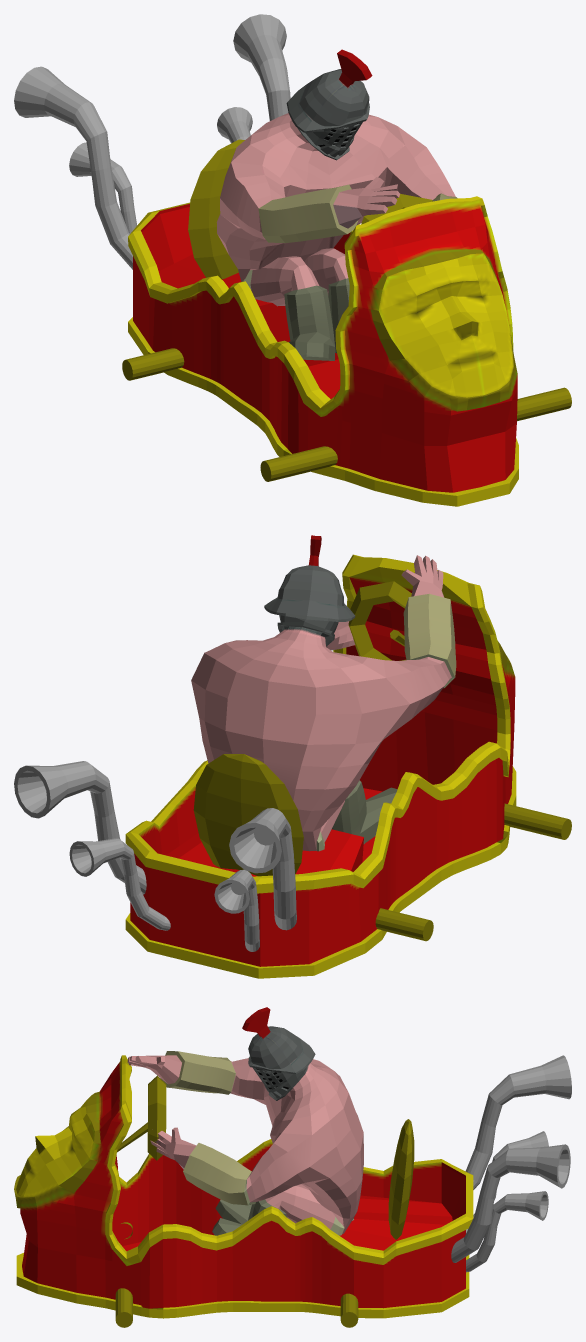
Rendered from gladiVacile_000510.obj.
3 views of the same model, one above another, from view 1: azimuth 30°, elevation 25°; view 2: azimuth 150°, elevation 25°; view 3: azimuth 270°, elevation 25° (orthographic). The views are drawn at different scales.
Parts seen in each view (by area): view 1: GladiChasis_GladiChasisH, Gadiador_Gladiador_H.001, GladiTubos_GladiTubosH, GladiVolante_GladiVolanteH; view 2: GladiChasis_GladiChasisH, Gadiador_Gladiador_H.001, GladiTubos_GladiTubosH, GladiVolante_GladiVolanteH; view 3: GladiChasis_GladiChasisH, Gadiador_Gladiador_H.001, GladiTubos_GladiTubosH, GladiVolante_GladiVolanteH.
Boxes of the visible parts, bbox=[...] form: GladiChasis_GladiChasisH: bbox=[128, 196, 518, 506]; Gadiador_Gladiador_H.001: bbox=[216, 49, 457, 360]; GladiTubos_GladiTubosH: bbox=[14, 14, 290, 269]; GladiVolante_GladiVolanteH: bbox=[122, 139, 571, 481]; GladiChasis_GladiChasisH: bbox=[125, 554, 516, 978]; Gadiador_Gladiador_H.001: bbox=[191, 535, 456, 851]; GladiTubos_GladiTubosH: bbox=[14, 761, 296, 951]; GladiVolante_GladiVolanteH: bbox=[193, 581, 571, 941]; GladiChasis_GladiChasisH: bbox=[14, 1055, 473, 1318]; Gadiador_Gladiador_H.001: bbox=[127, 1007, 363, 1235]; GladiTubos_GladiTubosH: bbox=[451, 1055, 571, 1272]; GladiVolante_GladiVolanteH: bbox=[115, 1075, 414, 1327].
Size of the model in its own units: 5.46 by 5.78 by 10.78.
